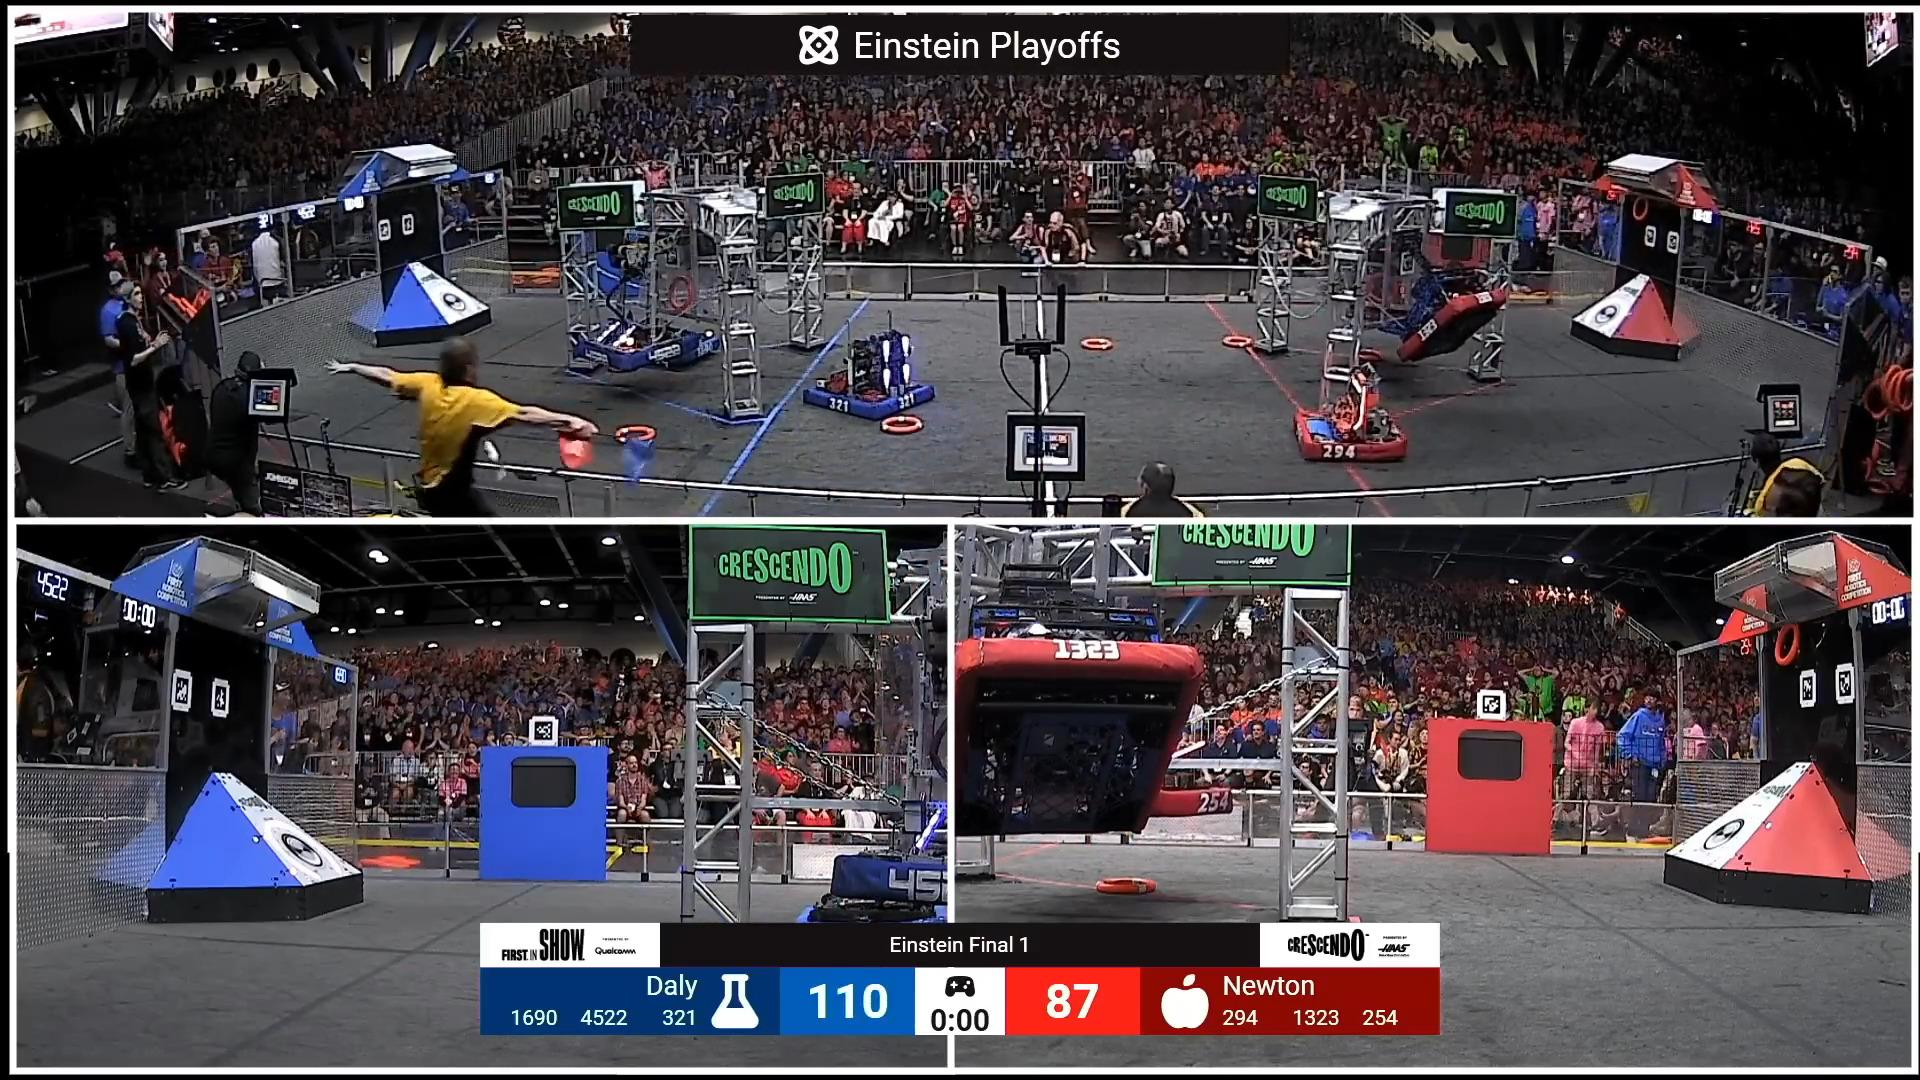blue_climbing: (554, 255, 680, 385)
blue_idle: (810, 330, 951, 419)
note: (1091, 855, 1163, 907), (1220, 322, 1267, 371), (612, 414, 663, 455), (1076, 326, 1120, 361), (872, 411, 924, 439)
red_climbing: (940, 549, 1218, 851), (1371, 225, 1516, 369)
